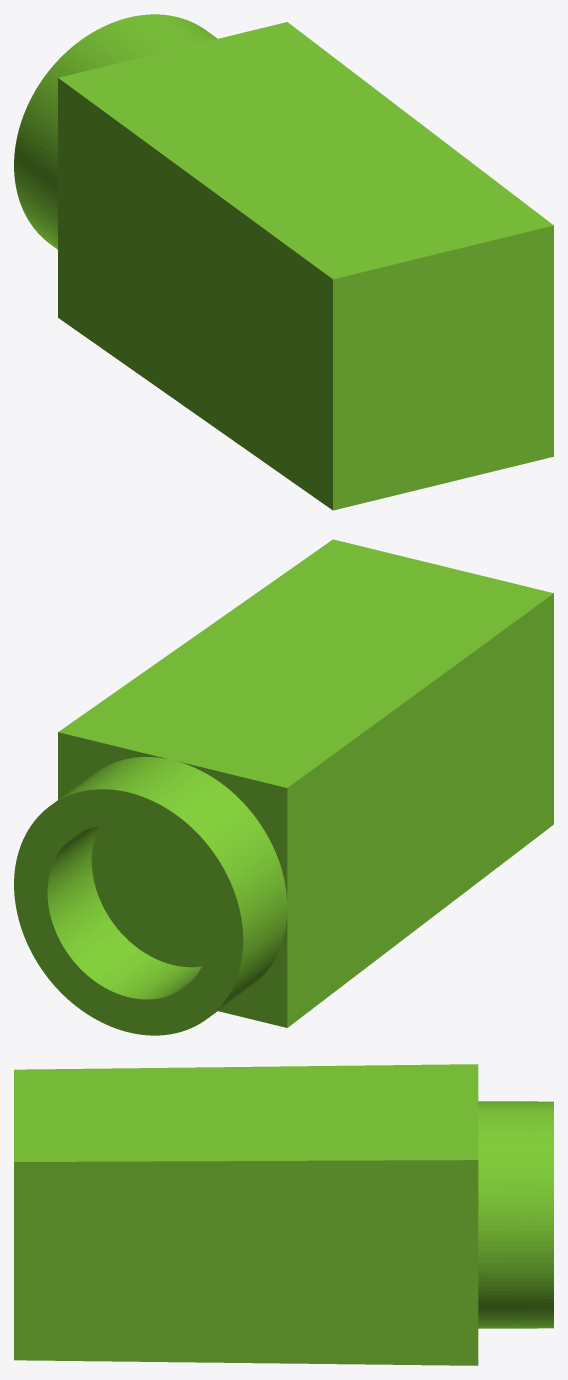
3 renders of one model, top to bottom at view 1: azimuth 30°, elevation 25°; view 2: azimuth 150°, elevation 25°; view 3: azimuth 270°, elevation 25°, orthographic. The views are drawn at different scales.
Parts seen in each view (by area): view 1: node; view 2: node; view 3: node.
Part boxes in pixels (<box>): node: <box>14,14,553,510</box>; node: <box>14,539,553,1035</box>; node: <box>14,1064,553,1365</box>.
Bounding box in the file's own units: 0.0489 × 0.0489 × 0.1163.
